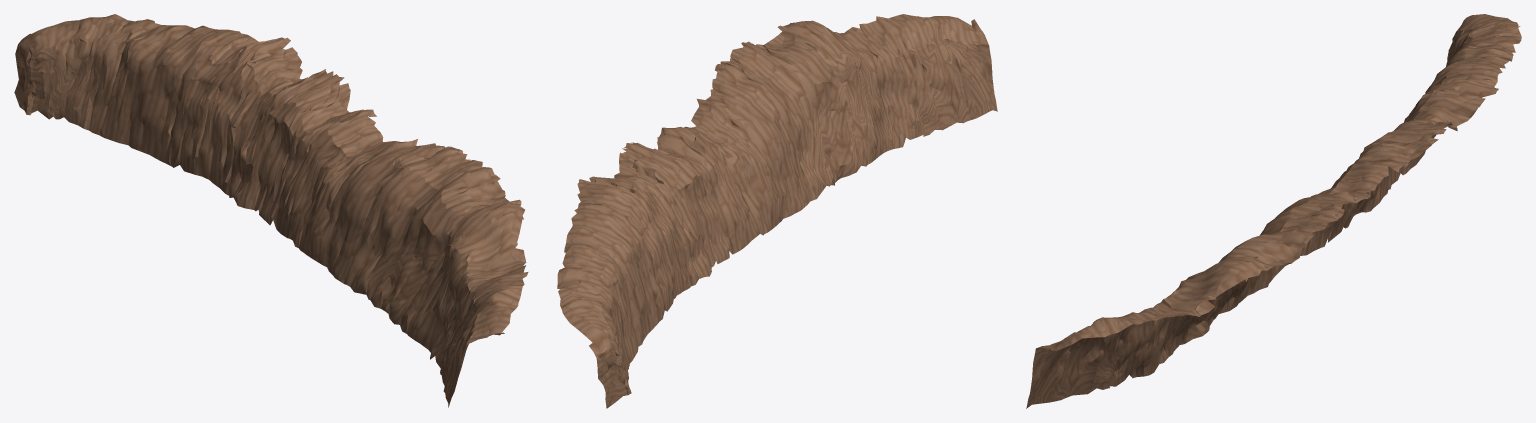
Rendered from SM_ENV_LKNVLD_FaceRock_BG_B_04.FBX.
The picture shows the model from 3 angles, left to right: view 1: azimuth 30°, elevation 25°; view 2: azimuth 150°, elevation 25°; view 3: azimuth 330°, elevation 25°; orthographic projection. The views are drawn at different scales.
Visible parts, largest first — view 1: SM_ENV_LKNVLD_FaceRock_BG_B_04; view 2: SM_ENV_LKNVLD_FaceRock_BG_B_04; view 3: SM_ENV_LKNVLD_FaceRock_BG_B_04.
Part boxes in pixels (x1,y1,x2,y2): SM_ENV_LKNVLD_FaceRock_BG_B_04: (14,14,528,407); SM_ENV_LKNVLD_FaceRock_BG_B_04: (557,14,997,408); SM_ENV_LKNVLD_FaceRock_BG_B_04: (1026,14,1521,408).
Bounding box in the file's own units: 25450 × 17319 × 112280.
